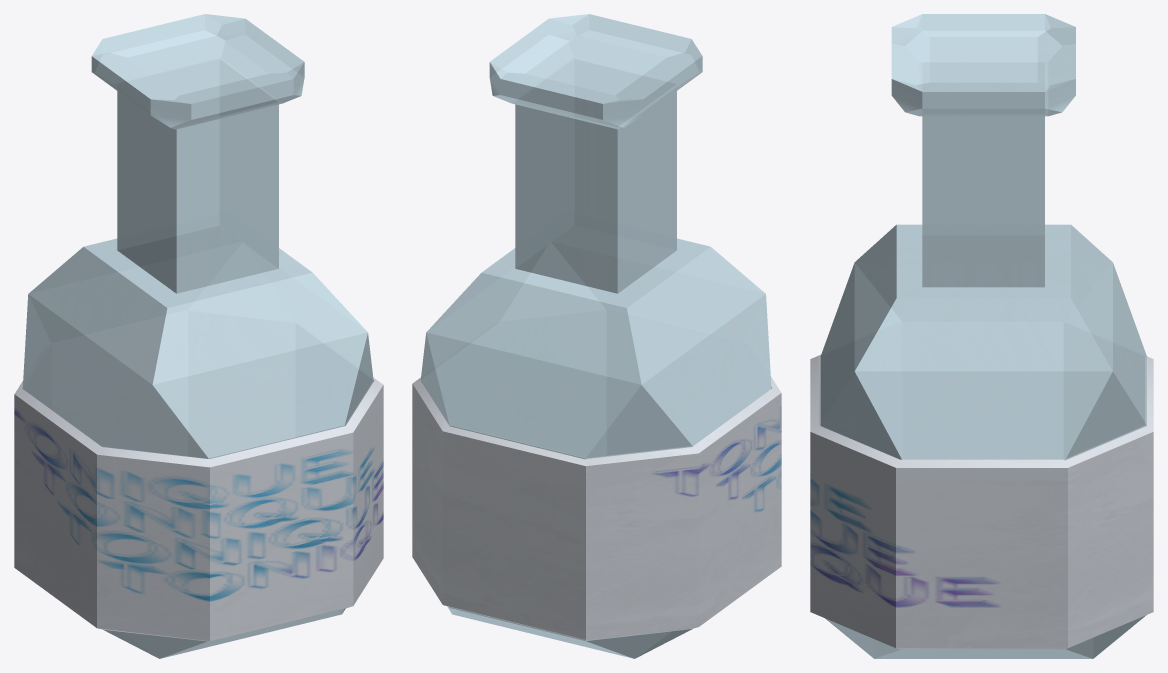
The model's file is Tonica.fbx.
3 renders of one model, left to right at view 1: azimuth 30°, elevation 25°; view 2: azimuth 150°, elevation 25°; view 3: azimuth 270°, elevation 25°, orthographic. The views are drawn at different scales.
Parts seen in each view (by area): view 1: polySurface3; view 2: polySurface3; view 3: polySurface3.
Boxes of the visible parts, box(x1,y1,x2,y2) form: polySurface3: box(14, 14, 383, 658); polySurface3: box(412, 14, 781, 658); polySurface3: box(810, 14, 1153, 658).
Bounding box in the file's own units: 1.73 × 3.11 × 1.73.
Materials: 2 (2 with a texture image).
